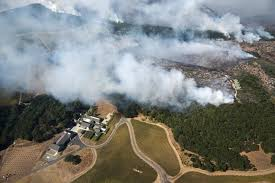fire: (224, 24, 256, 110)
